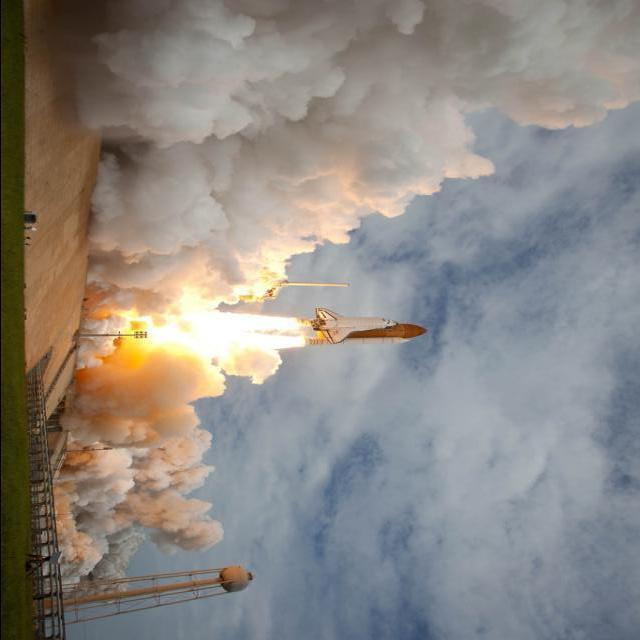missile: (313, 311, 427, 348)
